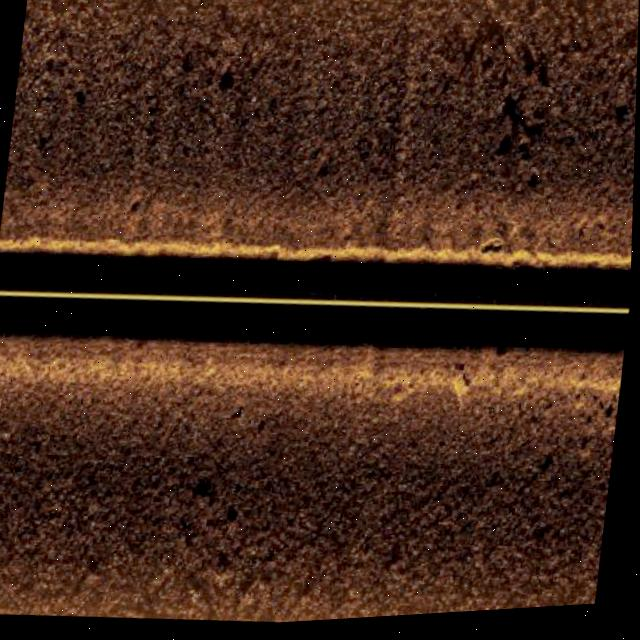mine: (452, 375, 478, 401)
